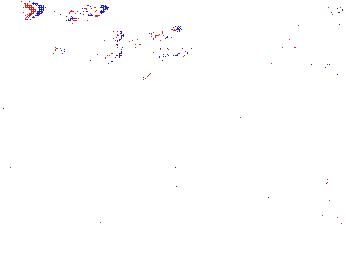glassfish: (135, 122, 186, 195), (119, 204, 179, 230)
redtail glassfish: (104, 39, 194, 64), (44, 37, 125, 62), (22, 1, 109, 23), (114, 22, 184, 45)
